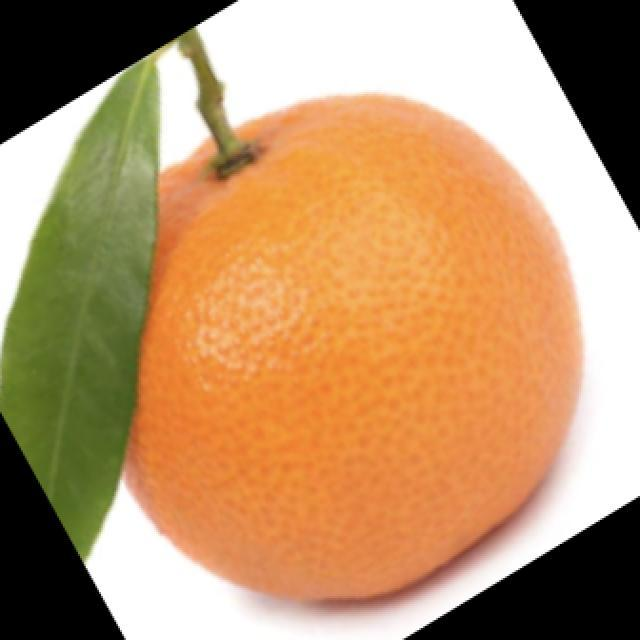matang: (127, 96, 581, 599)
